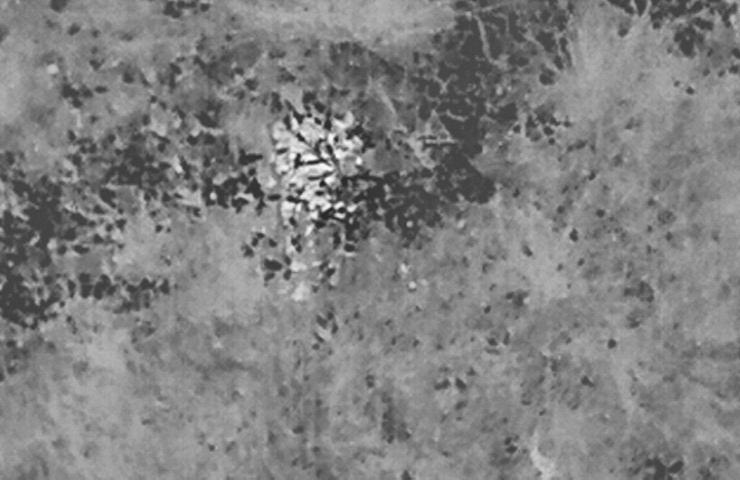landmines: (269, 115, 373, 228)
